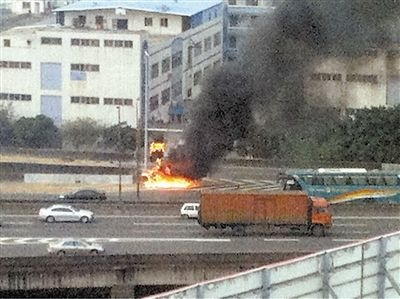fire: (143, 140, 202, 192)
